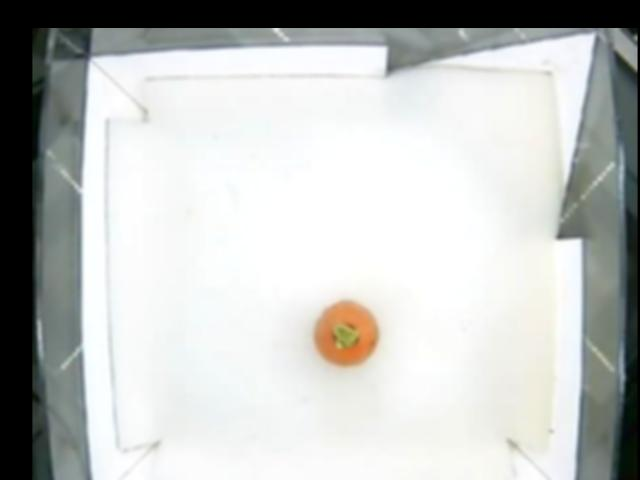Carrot: (313, 299, 376, 364)
